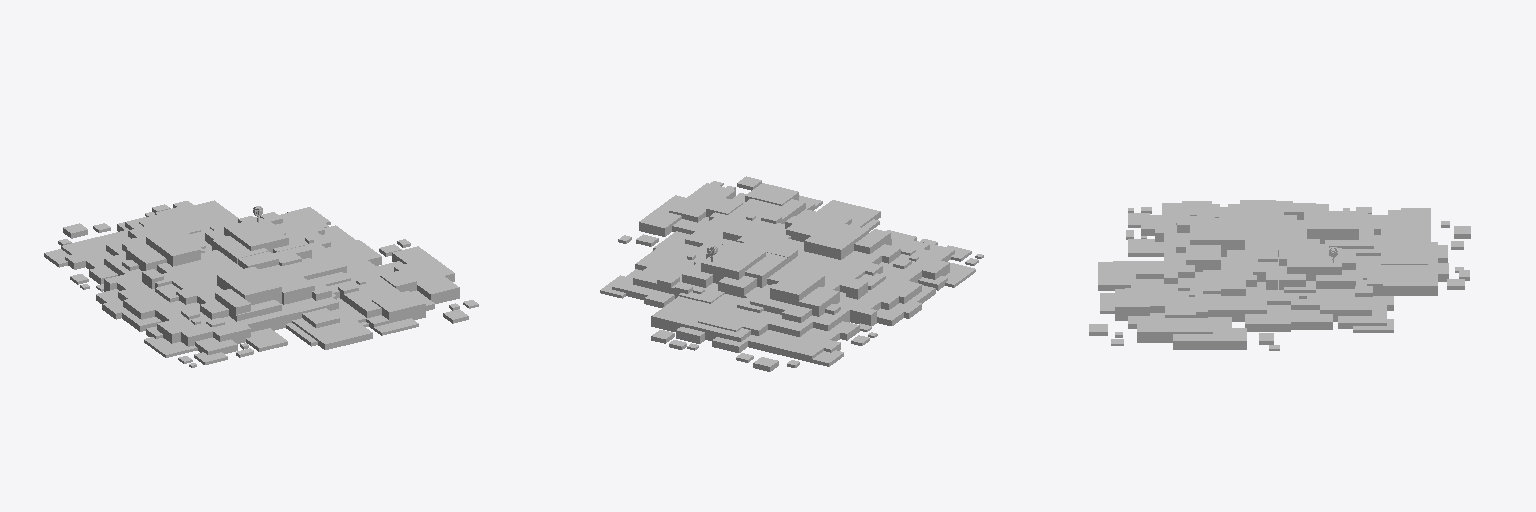
The model's file is Ilha.obj.
3 renders of one model, left to right at view 1: azimuth 30°, elevation 25°; view 2: azimuth 150°, elevation 25°; view 3: azimuth 270°, elevation 25°, orthographic.
Parts seen in each view (by area): view 1: ObjObject.010, ObjObject.008, ObjObject, ObjObject.002, ObjObject.001, ObjObject.006, ObjObject.003, ObjObject.007, ObjObject.004, ObjObject.005; view 2: ObjObject.010, ObjObject.008, ObjObject, ObjObject.002, ObjObject.006, ObjObject.003, ObjObject.007, ObjObject.001, ObjObject.004, ObjObject.005; view 3: ObjObject.010, ObjObject.008, ObjObject.001, ObjObject.007, ObjObject.003, ObjObject.002, ObjObject, ObjObject.004, ObjObject.005, ObjObject.006.
Boxes of the visible parts, x1,y1,x2,y2 form: ObjObject.010: [286, 239, 478, 349]; ObjObject.008: [96, 270, 338, 367]; ObjObject: [155, 265, 281, 326]; ObjObject.002: [122, 230, 237, 288]; ObjObject.001: [238, 245, 365, 304]; ObjObject.006: [44, 230, 143, 291]; ObjObject.003: [205, 212, 313, 263]; ObjObject.007: [254, 207, 356, 247]; ObjObject.004: [125, 200, 238, 241]; ObjObject.005: [117, 201, 200, 240]; ObjObject.010: [618, 176, 880, 255]; ObjObject.008: [784, 217, 983, 325]; ObjObject: [789, 221, 918, 289]; ObjObject.002: [737, 263, 867, 322]; ObjObject.006: [748, 308, 877, 366]; ObjObject.003: [657, 243, 787, 296]; ObjObject.007: [600, 249, 702, 307]; ObjObject.001: [720, 213, 827, 262]; ObjObject.004: [651, 283, 750, 341]; ObjObject.005: [651, 304, 779, 352]; ObjObject.010: [1089, 253, 1290, 350]; ObjObject.008: [1126, 200, 1328, 283]; ObjObject.001: [1178, 244, 1277, 296]; ObjObject.007: [1291, 282, 1393, 332]; ObjObject.003: [1279, 244, 1377, 298]; ObjObject.002: [1278, 206, 1380, 256]; ObjObject: [1176, 212, 1277, 256]; ObjObject.004: [1356, 242, 1437, 295]; ObjObject.005: [1374, 237, 1469, 289]; ObjObject.006: [1343, 207, 1430, 241].
Size of the model in its own units: 42.2 by 6.1 by 46.7.